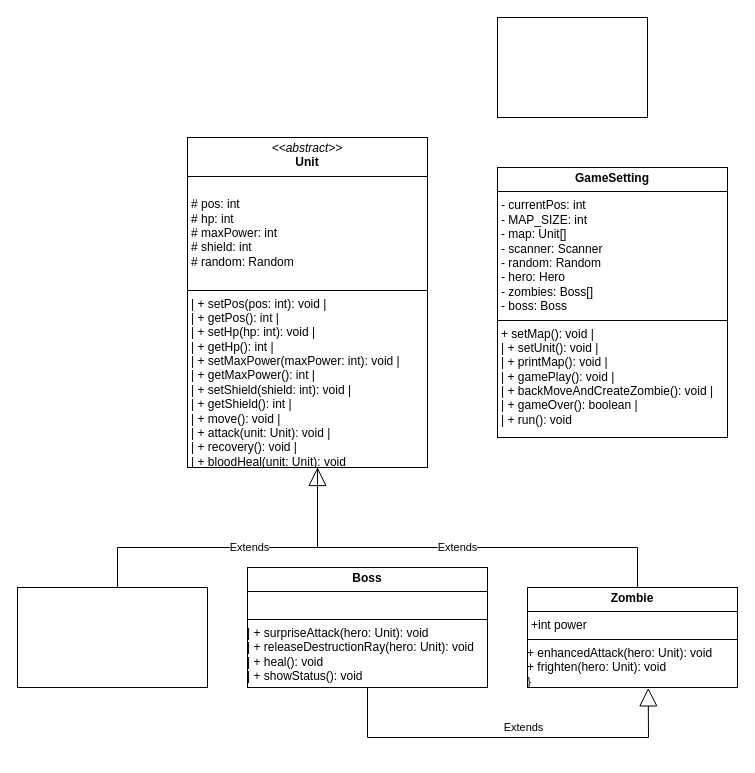
Some shapes in this 755 by 773 pixel diagram are drawn without their labels. The centre of each missing label's shape, as x and y in pixels:
Hero + rechargeEnergy (): void + bloodHeal ( unit : Unit): void: the point at 112,637
Main + main (String[] args): void: the point at 572,67
